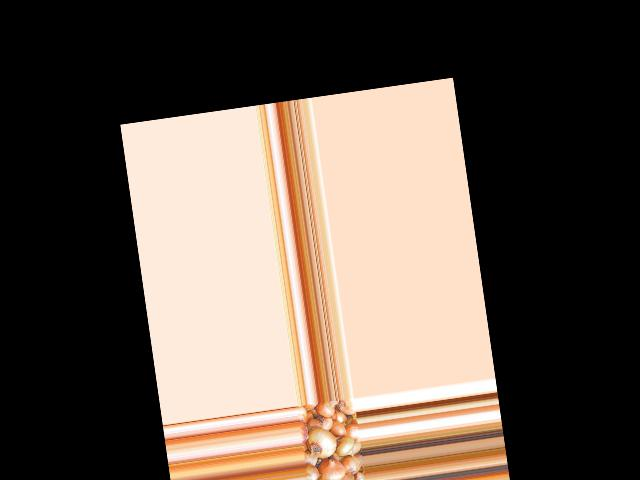onion: (340, 455, 361, 477)
